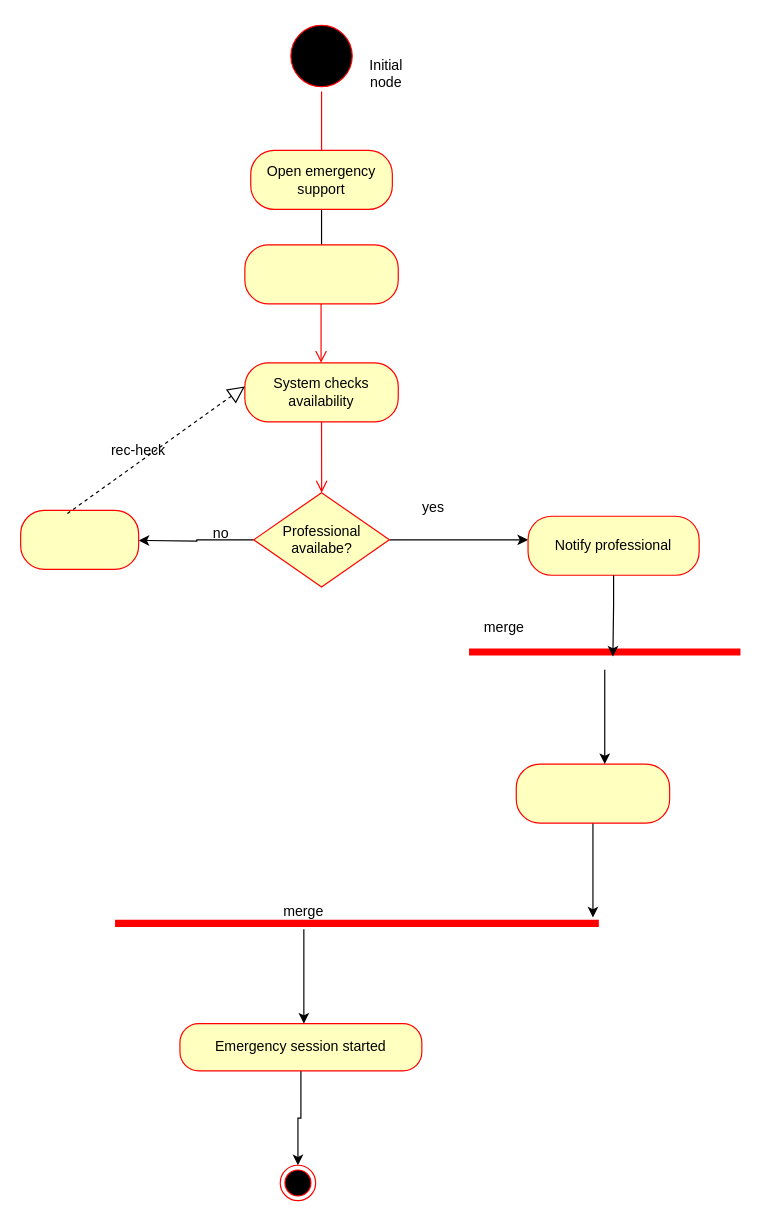
Image size: 765x1221. Some labels were removed from this diagram. The centre of each missing label's shape, as x and y in pixels:
Connect patient: the point at 592,793
Submit emergency request: the point at 321,274
Wait/retry: the point at 79,539
